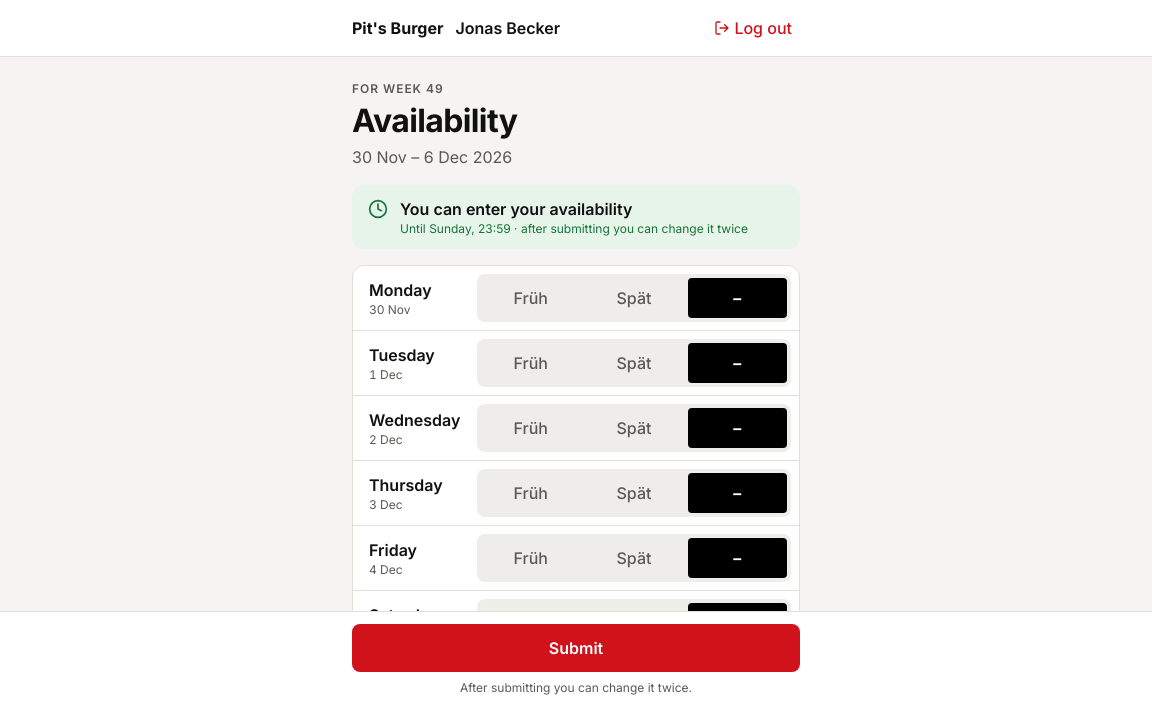
Test case: Availability › goes back from the sheet without saving
Click the button "Submit".
click(576, 648)  # box [352,624,800,672]
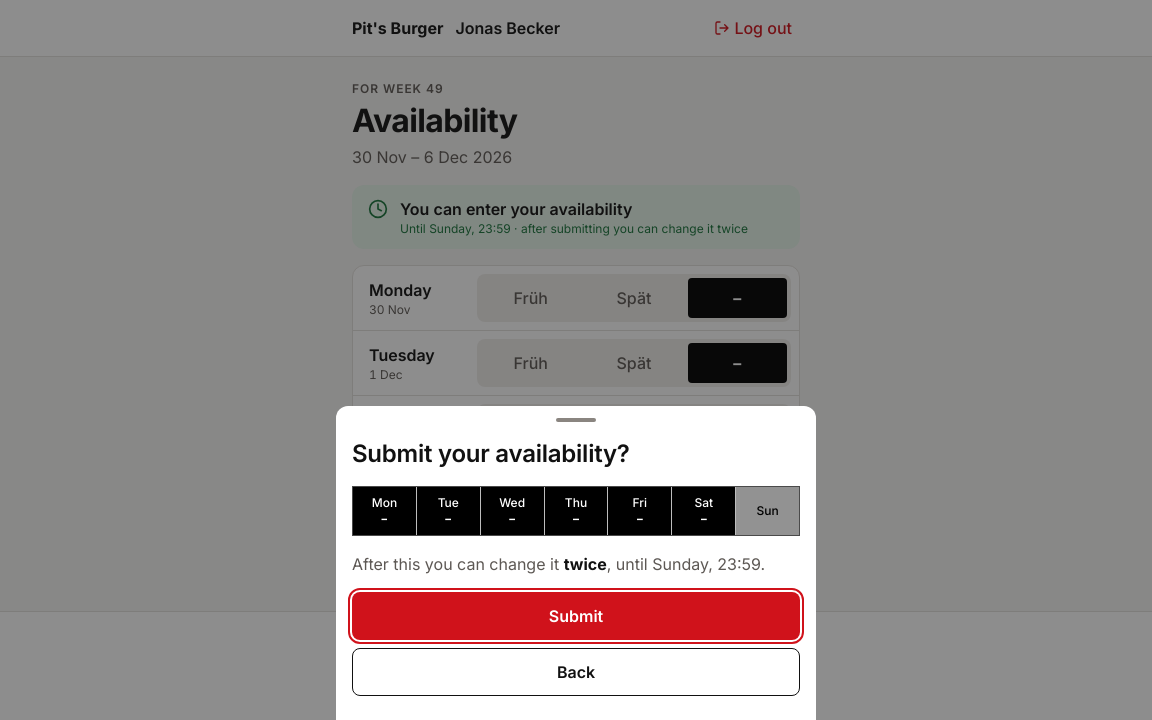
Click the button "Back".
click(576, 672)  # box [352,648,800,696]
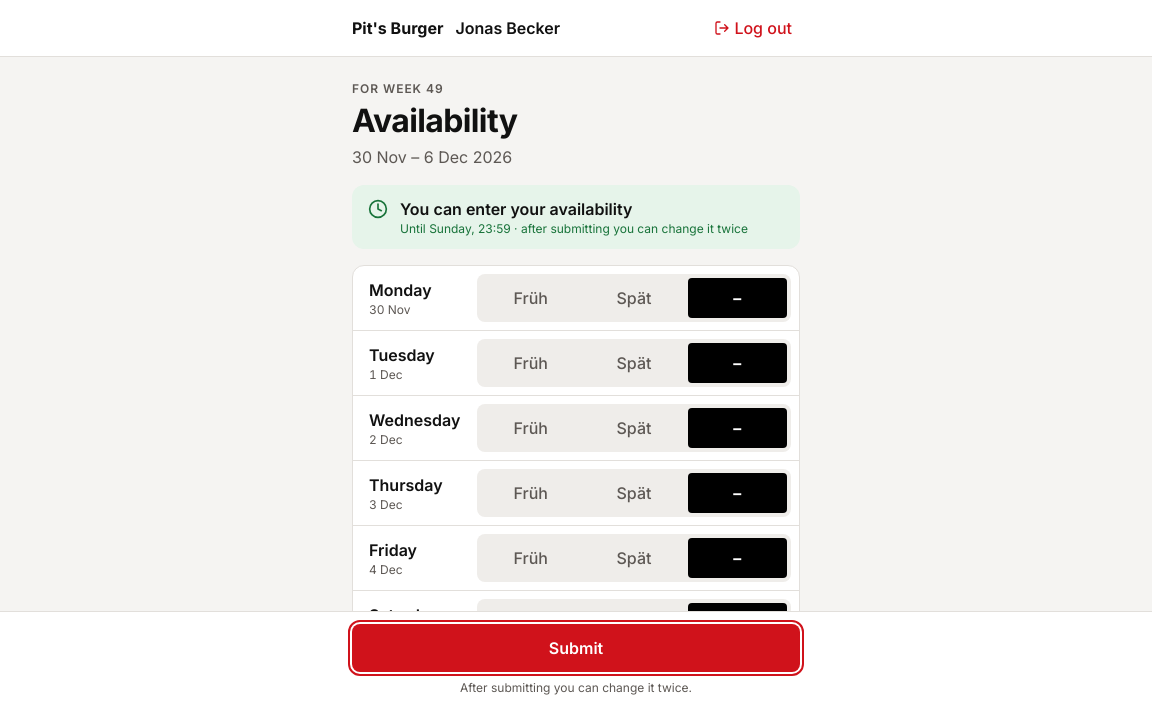
Expected: the dialog is gone
